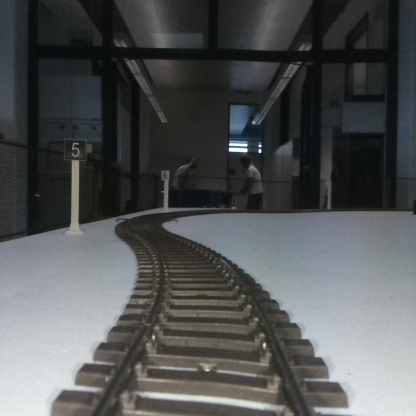black-info-5: (65, 139, 86, 233)
